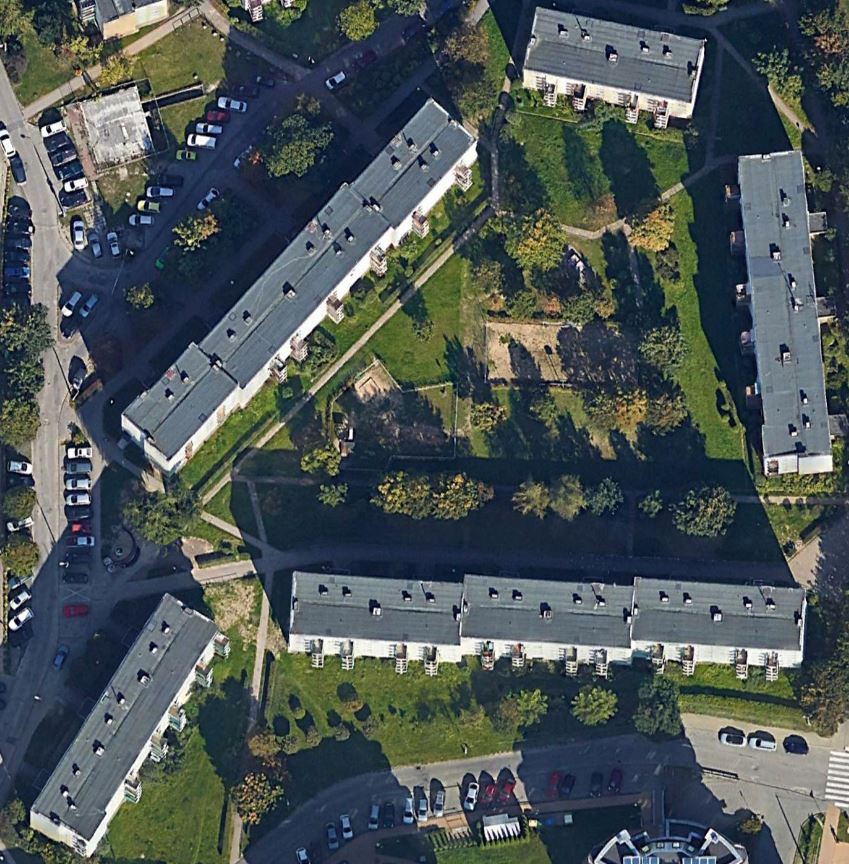block of flats: (119, 89, 486, 486), (270, 558, 823, 690), (21, 590, 236, 860), (707, 134, 846, 483), (501, 3, 726, 136)
